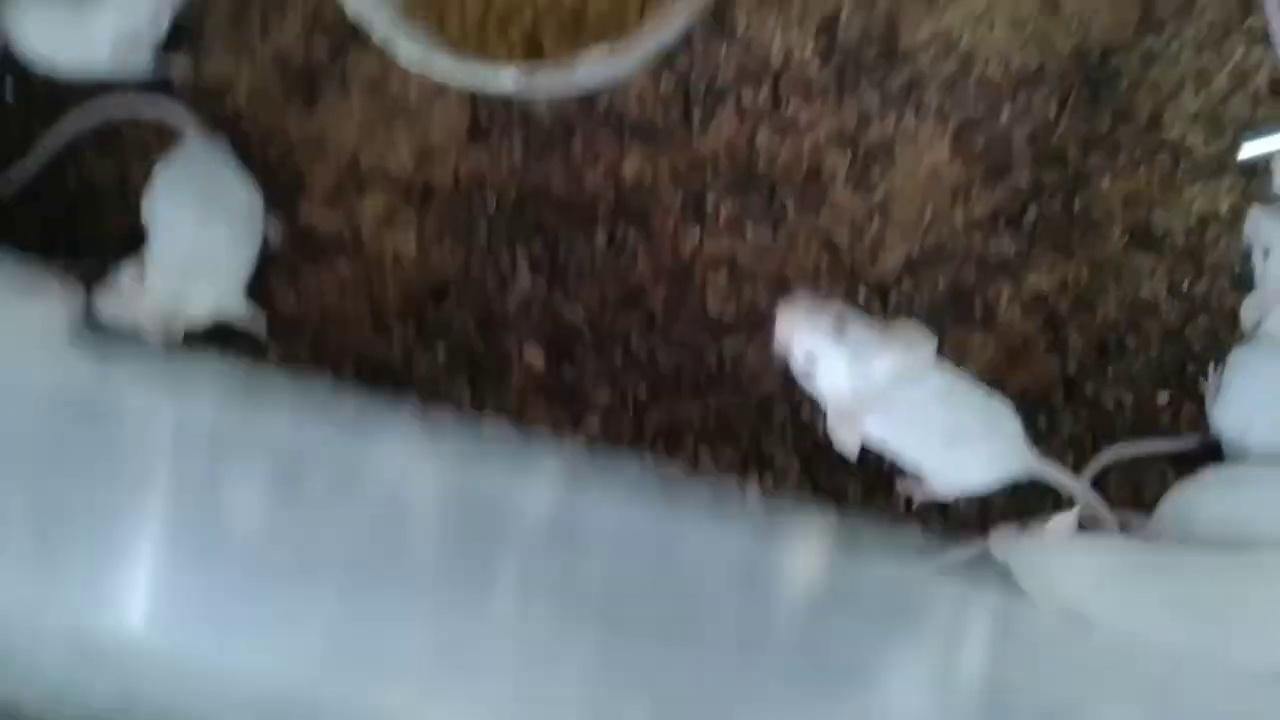rat: (775, 291, 1123, 533), (0, 94, 289, 349), (1085, 206, 1280, 483)
